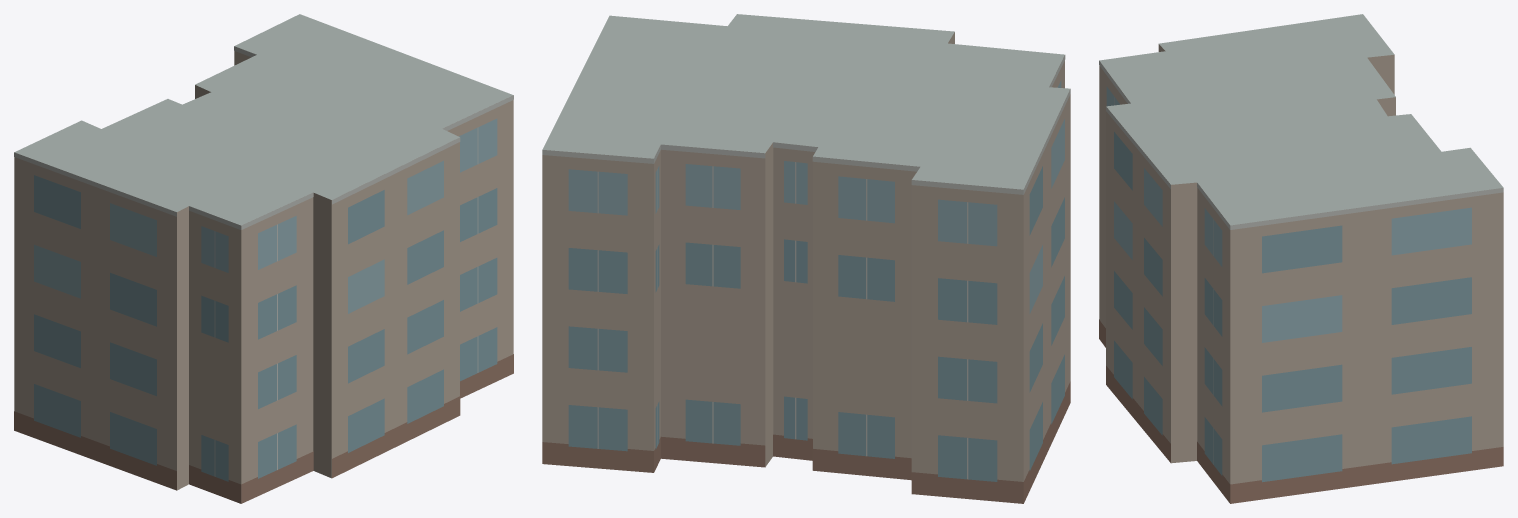
File: survey-upis-32549020.glb
3 renders of one model, left to right at view 1: azimuth 30°, elevation 25°; view 2: azimuth 150°, elevation 25°; view 3: azimuth 270°, elevation 25°, orthographic. The views are drawn at different scales.
Visible parts, largest first — view 1: survey-upis-32549020.tmp; view 2: survey-upis-32549020.tmp; view 3: survey-upis-32549020.tmp.
Part boxes in pixels (x1,y1,x2,y2): survey-upis-32549020.tmp: [14, 14, 513, 503]; survey-upis-32549020.tmp: [542, 14, 1070, 503]; survey-upis-32549020.tmp: [1099, 14, 1503, 503].
Size of the model in its own units: 23.92 by 14.68 by 19.34.
